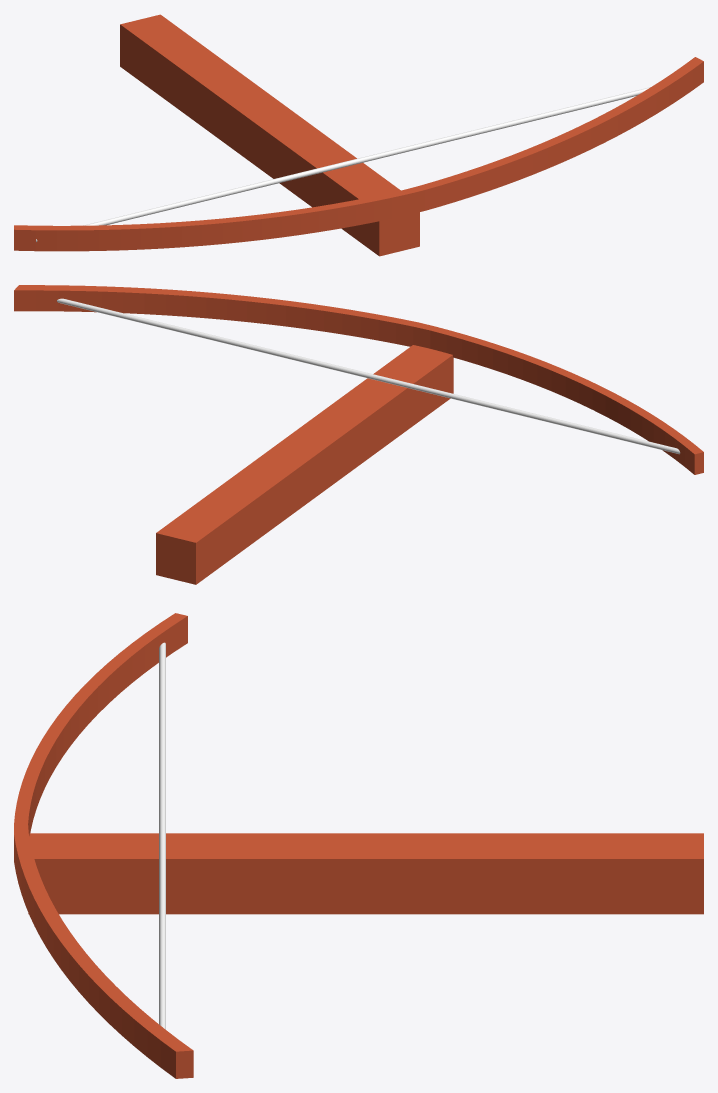
Rendered from CrossBow.obj.
The picture shows the model from 3 angles, top to bottom: view 1: azimuth 30°, elevation 25°; view 2: azimuth 150°, elevation 25°; view 3: azimuth 270°, elevation 25°; orthographic projection. The views are drawn at different scales.
Parts seen in each view (by area): view 1: 立方体.002; view 2: 立方体.002; view 3: 立方体.002.
Part boxes in pixels (x1,y1,x2,y2): 立方体.002: [14, 14, 703, 256]; 立方体.002: [14, 285, 703, 584]; 立方体.002: [14, 613, 703, 1078].
Size of the model in its own units: 1.35 by 0.1137 by 0.8987.
